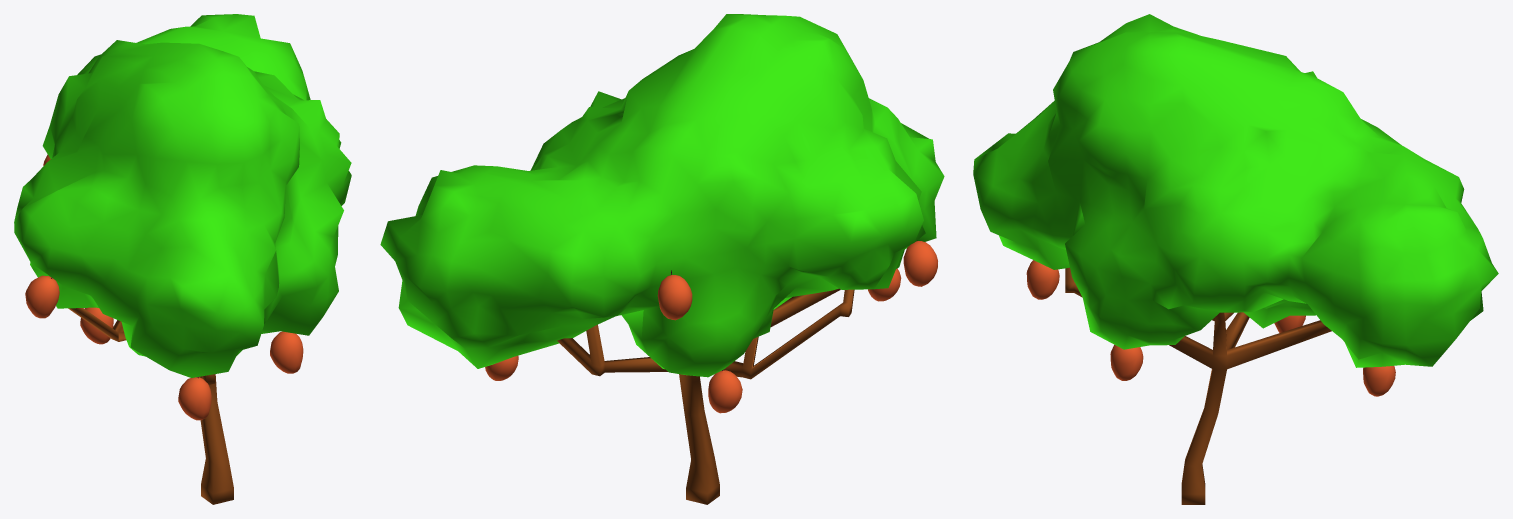
Rendered from SM_MangoTree_002.fbx.
3 renders of one model, left to right at view 1: azimuth 30°, elevation 25°; view 2: azimuth 150°, elevation 25°; view 3: azimuth 270°, elevation 25°, orthographic. The views are drawn at different scales.
Visible parts, largest first — view 1: MangoTree_02; view 2: MangoTree_02; view 3: MangoTree_02.
Boxes of the visible parts, <box> form: MangoTree_02: <box>14,14,351,504</box>; MangoTree_02: <box>380,14,944,504</box>; MangoTree_02: <box>973,14,1498,504</box>.
Size of the model in its own units: 276 by 305 by 322.
